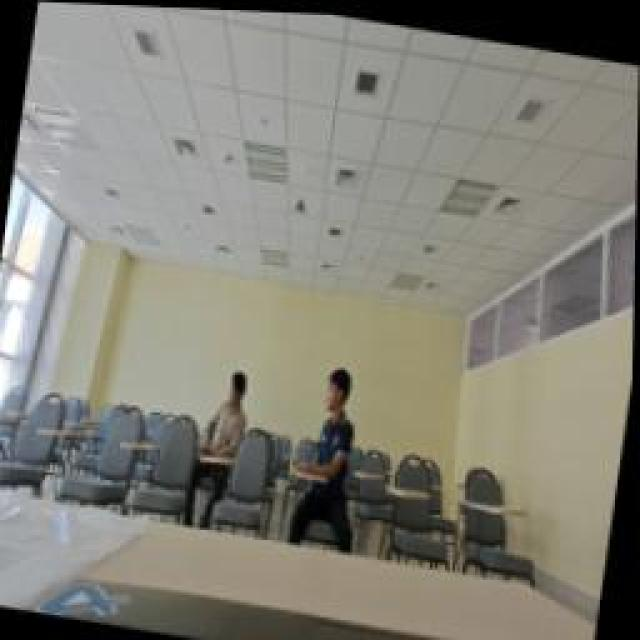study: (300, 343, 368, 475), (202, 360, 252, 455)
